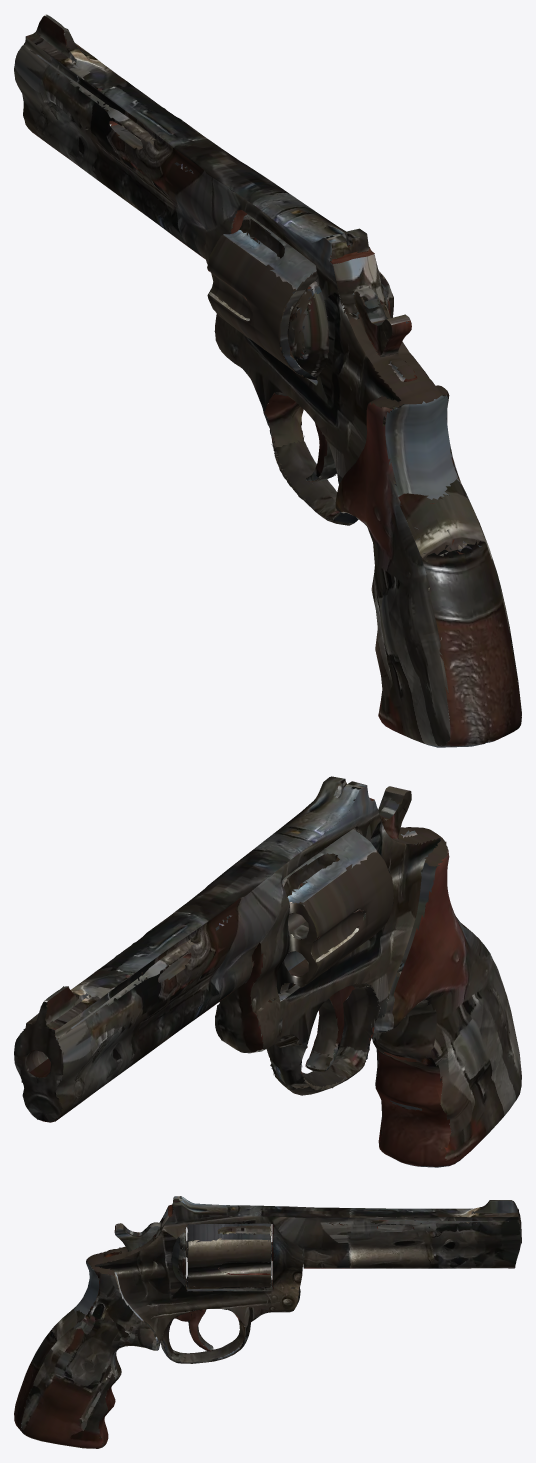
File: revolver.glb
The picture shows the model from 3 angles, top to bottom: view 1: azimuth 30°, elevation 25°; view 2: azimuth 150°, elevation 25°; view 3: azimuth 270°, elevation 25°; orthographic projection. The views are drawn at different scales.
Parts seen in each view (by area): view 1: Node #0; view 2: Node #0; view 3: Node #0.
Boxes of the visible parts, left/top/right/bottom form: Node #0: left=14, top=14, right=521, bottom=747; Node #0: left=14, top=776, right=521, bottom=1167; Node #0: left=14, top=1196, right=521, bottom=1448.
Size of the model in its own units: 0.294 by 1.05 by 2.
Materials: 1 (1 with a texture image).
